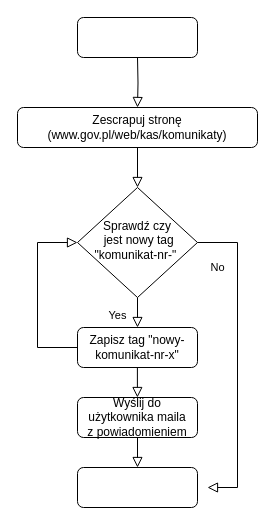
Image size: 275x525. Some labels were removed from this diagram. Each missing label, with the box of its shape:
uruchomienie skryptu(serwer): (76, 16, 198, 58)
Wyjdź(koniec): (76, 466, 198, 508)
